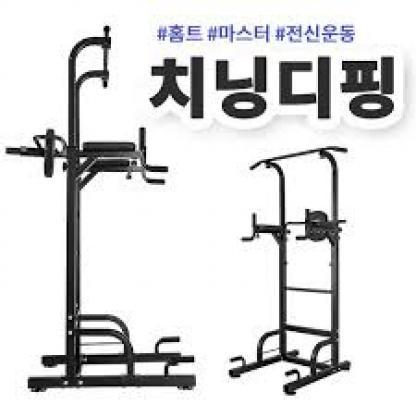chinning dipping: (6, 26, 169, 392), (227, 144, 351, 396)
